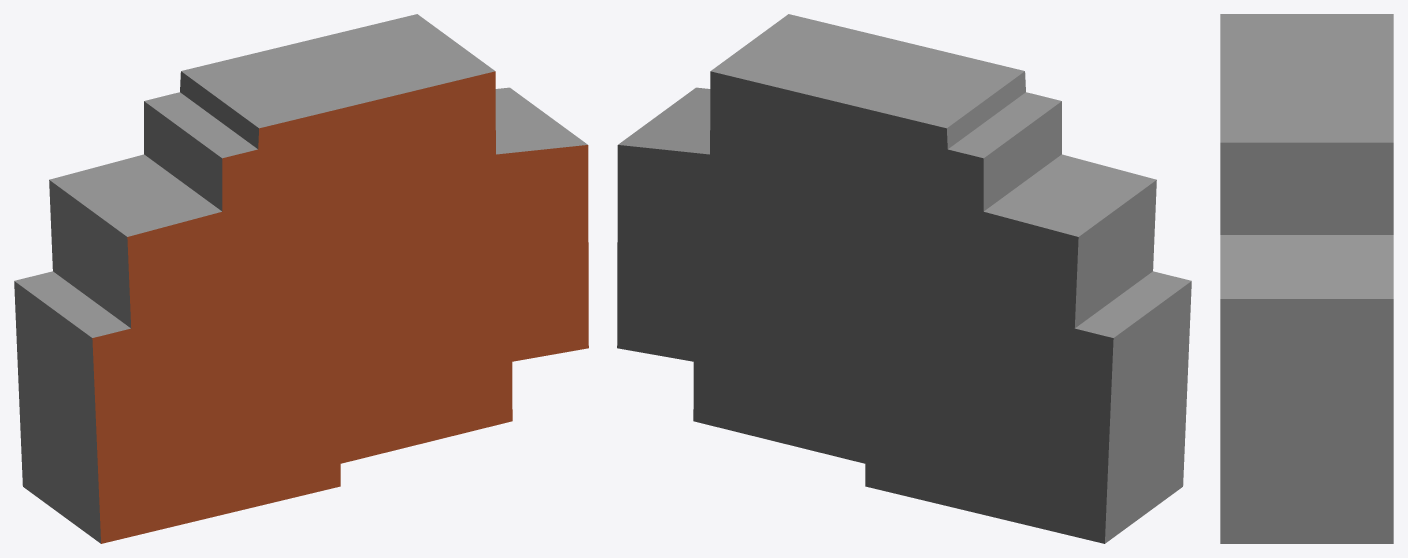
File: construction_1970_assumed_A_Casa_h6m.obj
The picture shows the model from 3 angles, left to right: view 1: azimuth 30°, elevation 25°; view 2: azimuth 150°, elevation 25°; view 3: azimuth 270°, elevation 25°; orthographic projection. The views are drawn at different scales.
Parts seen in each view (by area): view 1: construction_1970_assumed_A_Casa; view 2: construction_1970_assumed_A_Casa; view 3: construction_1970_assumed_A_Casa.
Boxes of the visible parts, box(x1,y1,x2,y2) form: construction_1970_assumed_A_Casa: box(14, 14, 588, 543); construction_1970_assumed_A_Casa: box(617, 14, 1191, 543); construction_1970_assumed_A_Casa: box(1220, 14, 1393, 543).
Size of the model in its own units: 21.97 by 15.99 by 6.
